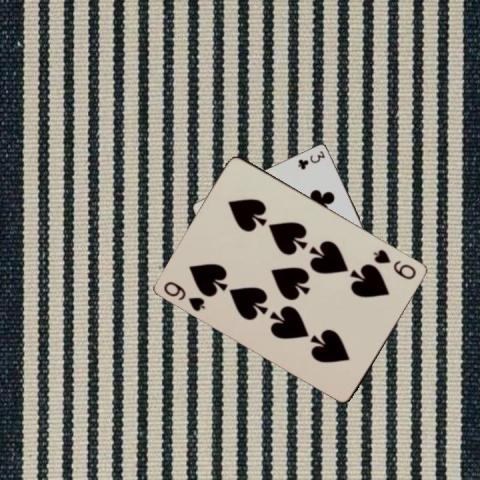3c: (295, 148, 326, 171)
9s: (371, 246, 418, 281), (161, 278, 207, 313)
